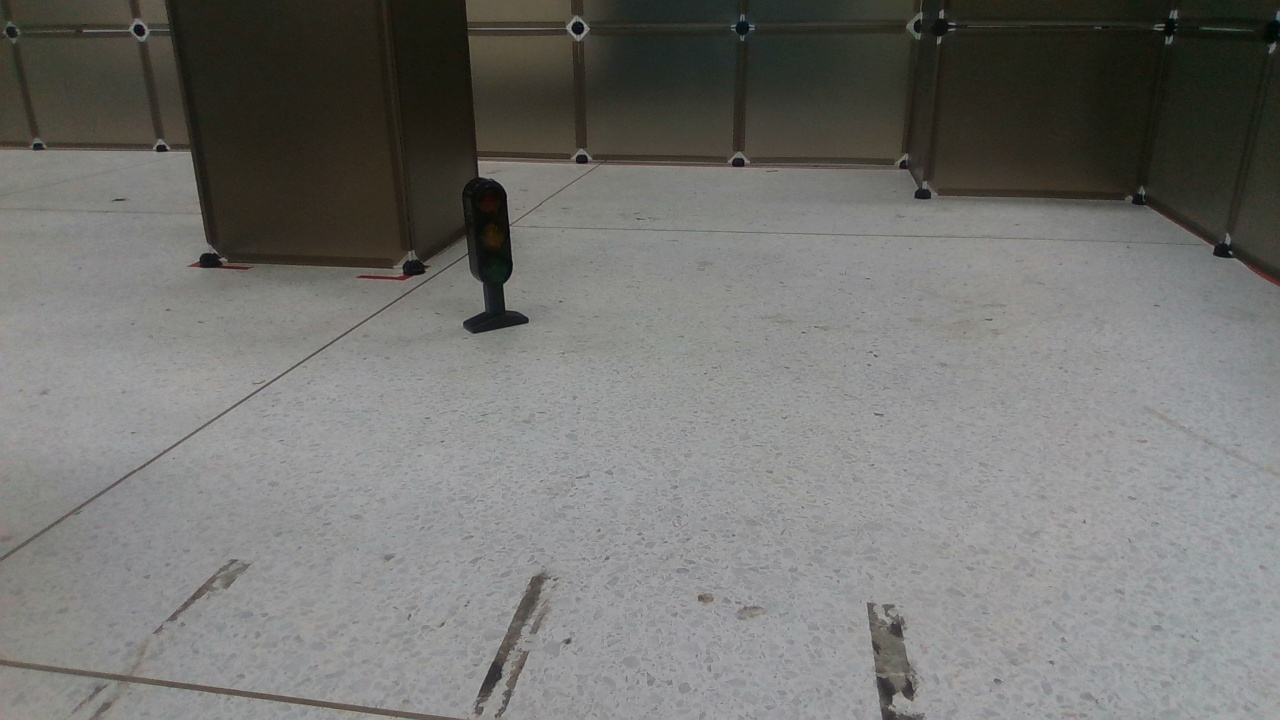Dim traffic light: (450, 179, 534, 337)
